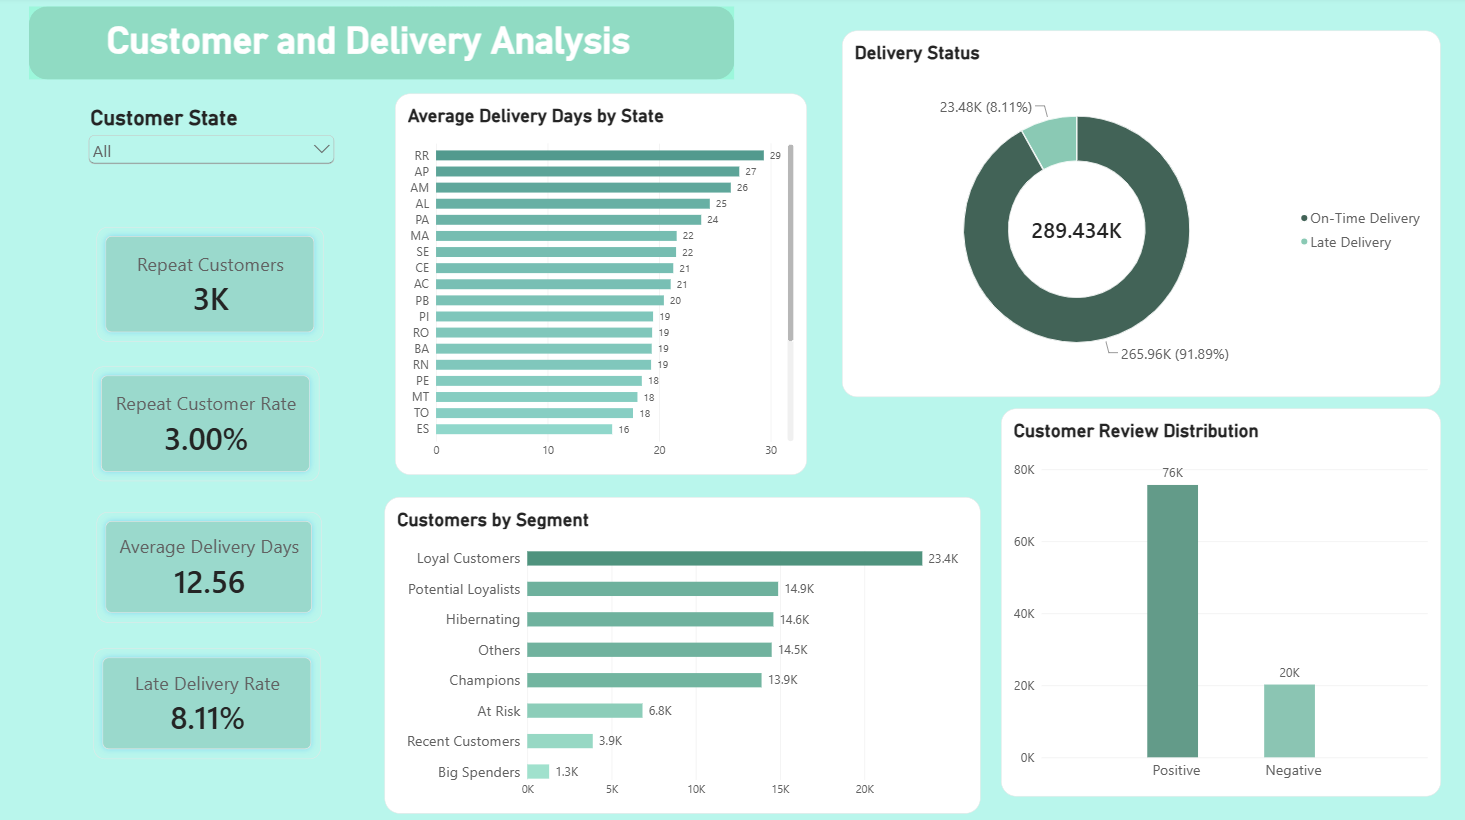

The dashboard page shown, as its layout file describes it:
{"tool":"powerbi","page":{"name":"Customer & Delivery Analysis","canvas":[1920,1080],"ordinal":2},"visuals":[{"type":"shape","box":[38.6,13.6,922.2,95.4],"z":0},{"type":"cardVisual","fields":{"Data":["public customer_rfm_vw.Repeat Customer Rate"]},"box":[122.4,484.3,297.6,150.2],"z":1000},{"type":"cardVisual","fields":{"Data":["public delivery_orders_vw.Late Delivery Rate"]},"box":[124,853.5,297.6,144.6],"z":2000},{"type":"cardVisual","fields":{"Data":["public delivery_orders_vw.Average Delivery Days"]},"box":[126.8,675,294.8,144.6],"z":3000},{"type":"clusteredBarChart","title":"Customers by Segment","fields":{"Category":["public customer_rfm_vw.customer_segment"],"Y":["Count(public customer_rfm_vw.customer_unique_id)"]},"box":[504.6,654.8,779.5,413.9],"z":4000},{"type":"donutChart","title":"Delivery Status","fields":{"Category":["public delivery_orders_vw.delivery_status"],"Y":["CountNonNull(public delivery_orders_vw.order_id)"]},"box":[1102.7,45.4,782.4,479.1],"z":5000},{"type":"clusteredBarChart","title":"Average Delivery Days by State","fields":{"Category":["public delivery_orders_vw.customer_state"],"Y":["Avg(public delivery_orders_vw.delivery_days)"]},"box":[518.7,127.6,538.6,498.9],"z":6000},{"type":"clusteredColumnChart","title":"Customer Review Distribution","fields":{"Category":["public order_review_vw.review_category"],"Y":["CountNonNull(public order_review_vw.order_id)"]},"box":[1309.6,538.6,575.4,507.4],"z":7000},{"type":"textbox","box":[140.8,29.5,754.1,65.9],"z":8000},{"type":"slicer","fields":{"Values":["public delivery_orders_vw.customer_state"]},"box":[111.3,143.1,331.6,109],"z":9000},{"type":"cardVisual","fields":{"Data":["public customer_rfm_vw.Repeat Customers"]},"box":[127.2,302.1,297.6,150.2],"z":10000}]}

Visuals, with their boxes in screenshot pixels (x1, y1, x2, y2), scaled from the page's 1920x1080 canvas onto the 1465x820 screenshot:
shape: <bbox>29, 10, 733, 83</bbox>
cardVisual - public customer_rfm_vw.Repeat Customer Rate: <bbox>93, 368, 320, 482</bbox>
cardVisual - public delivery_orders_vw.Late Delivery Rate: <bbox>95, 648, 322, 758</bbox>
cardVisual - public delivery_orders_vw.Average Delivery Days: <bbox>97, 512, 322, 622</bbox>
"Customers by Segment" clusteredBarChart: <bbox>385, 497, 980, 811</bbox>
"Delivery Status" donutChart: <bbox>841, 34, 1438, 398</bbox>
"Average Delivery Days by State" clusteredBarChart: <bbox>396, 97, 807, 476</bbox>
"Customer Review Distribution" clusteredColumnChart: <bbox>999, 409, 1438, 794</bbox>
textbox: <bbox>107, 22, 683, 72</bbox>
slicer - public delivery_orders_vw.customer_state: <bbox>85, 109, 338, 191</bbox>
cardVisual - public customer_rfm_vw.Repeat Customers: <bbox>97, 229, 324, 343</bbox>
